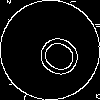O: (25, 25, 85, 83)
